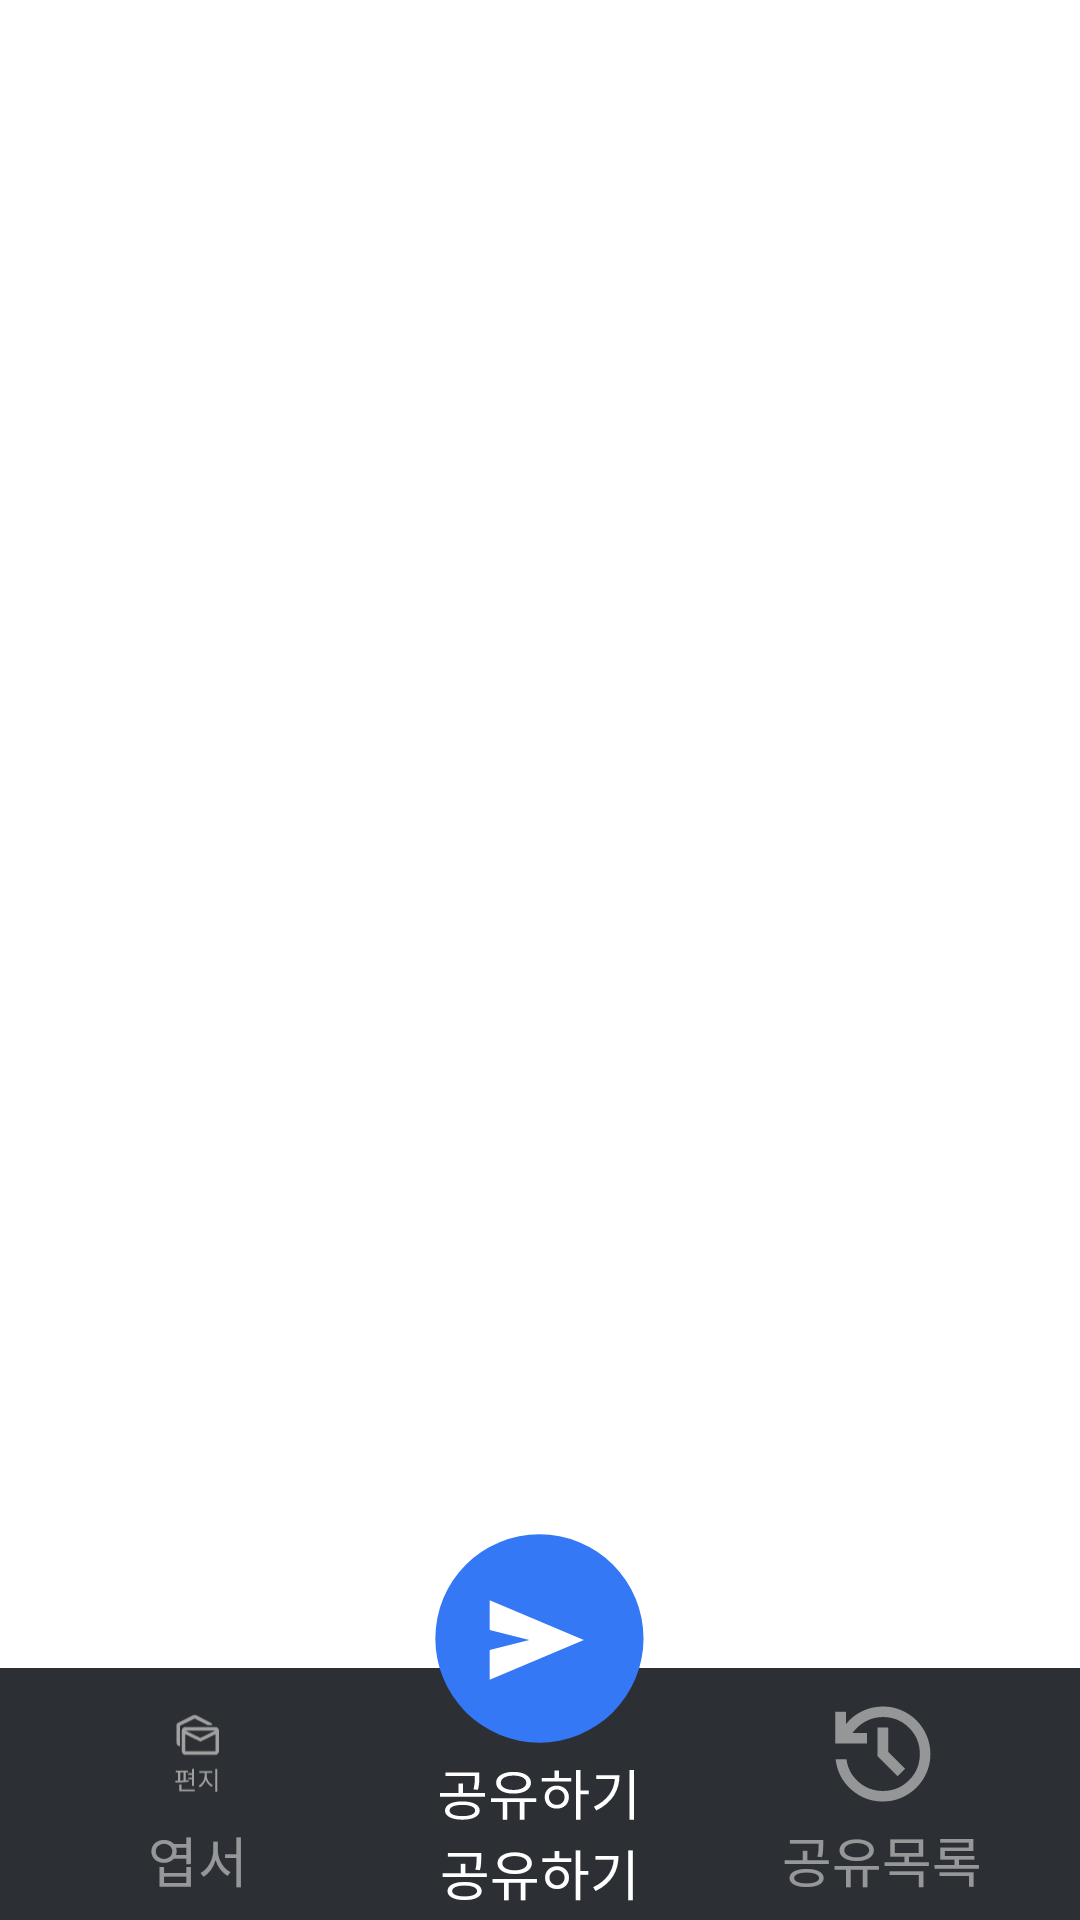

Screen size 1080 x 1920. Icon name, then its box in pixels as bbox=[x1, y1, x2, y2]:
history: bbox=[835, 1706, 931, 1802]
